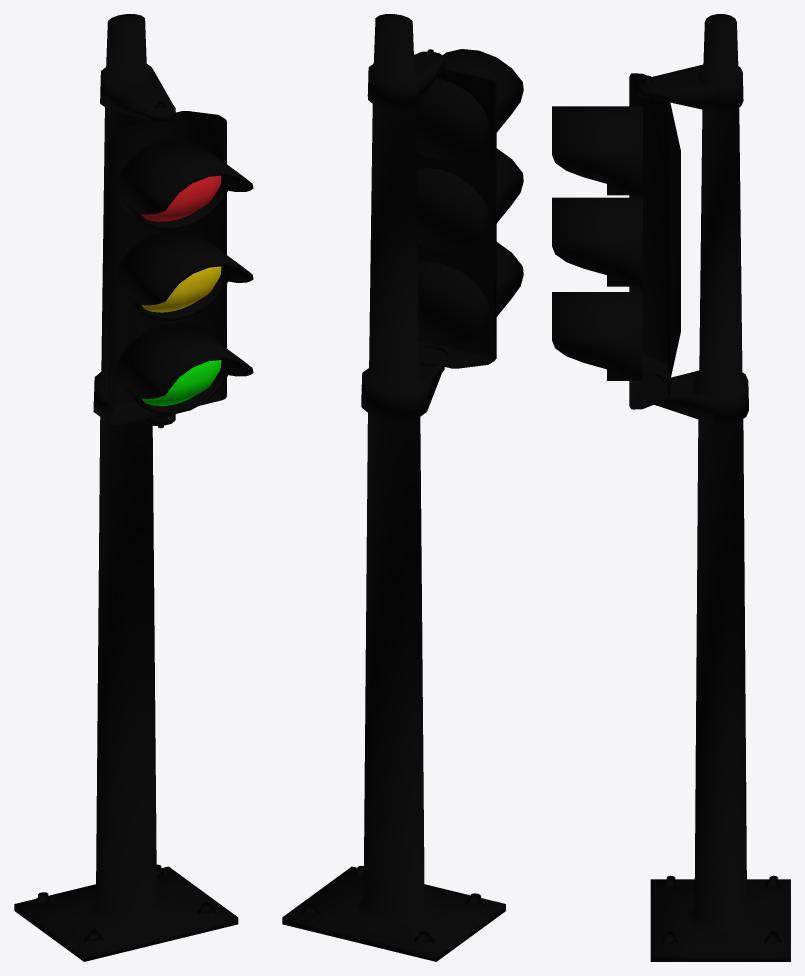
File: Traffic.dae
The picture shows the model from 3 angles, left to right: view 1: azimuth 30°, elevation 25°; view 2: azimuth 150°, elevation 25°; view 3: azimuth 270°, elevation 25°; orthographic projection.
Parts seen in each view (by area): view 1: Cylinder.001; view 2: Cylinder.001; view 3: Cylinder.001.
Boxes of the visible parts, x1,y1,x2,y2 form: Cylinder.001: (14,14,253,961); Cylinder.001: (282,14,523,961); Cylinder.001: (552,14,790,961).
Size of the model in its own units: 0.225 by 0.3 by 1.25.
4 materials, 3 textured.
